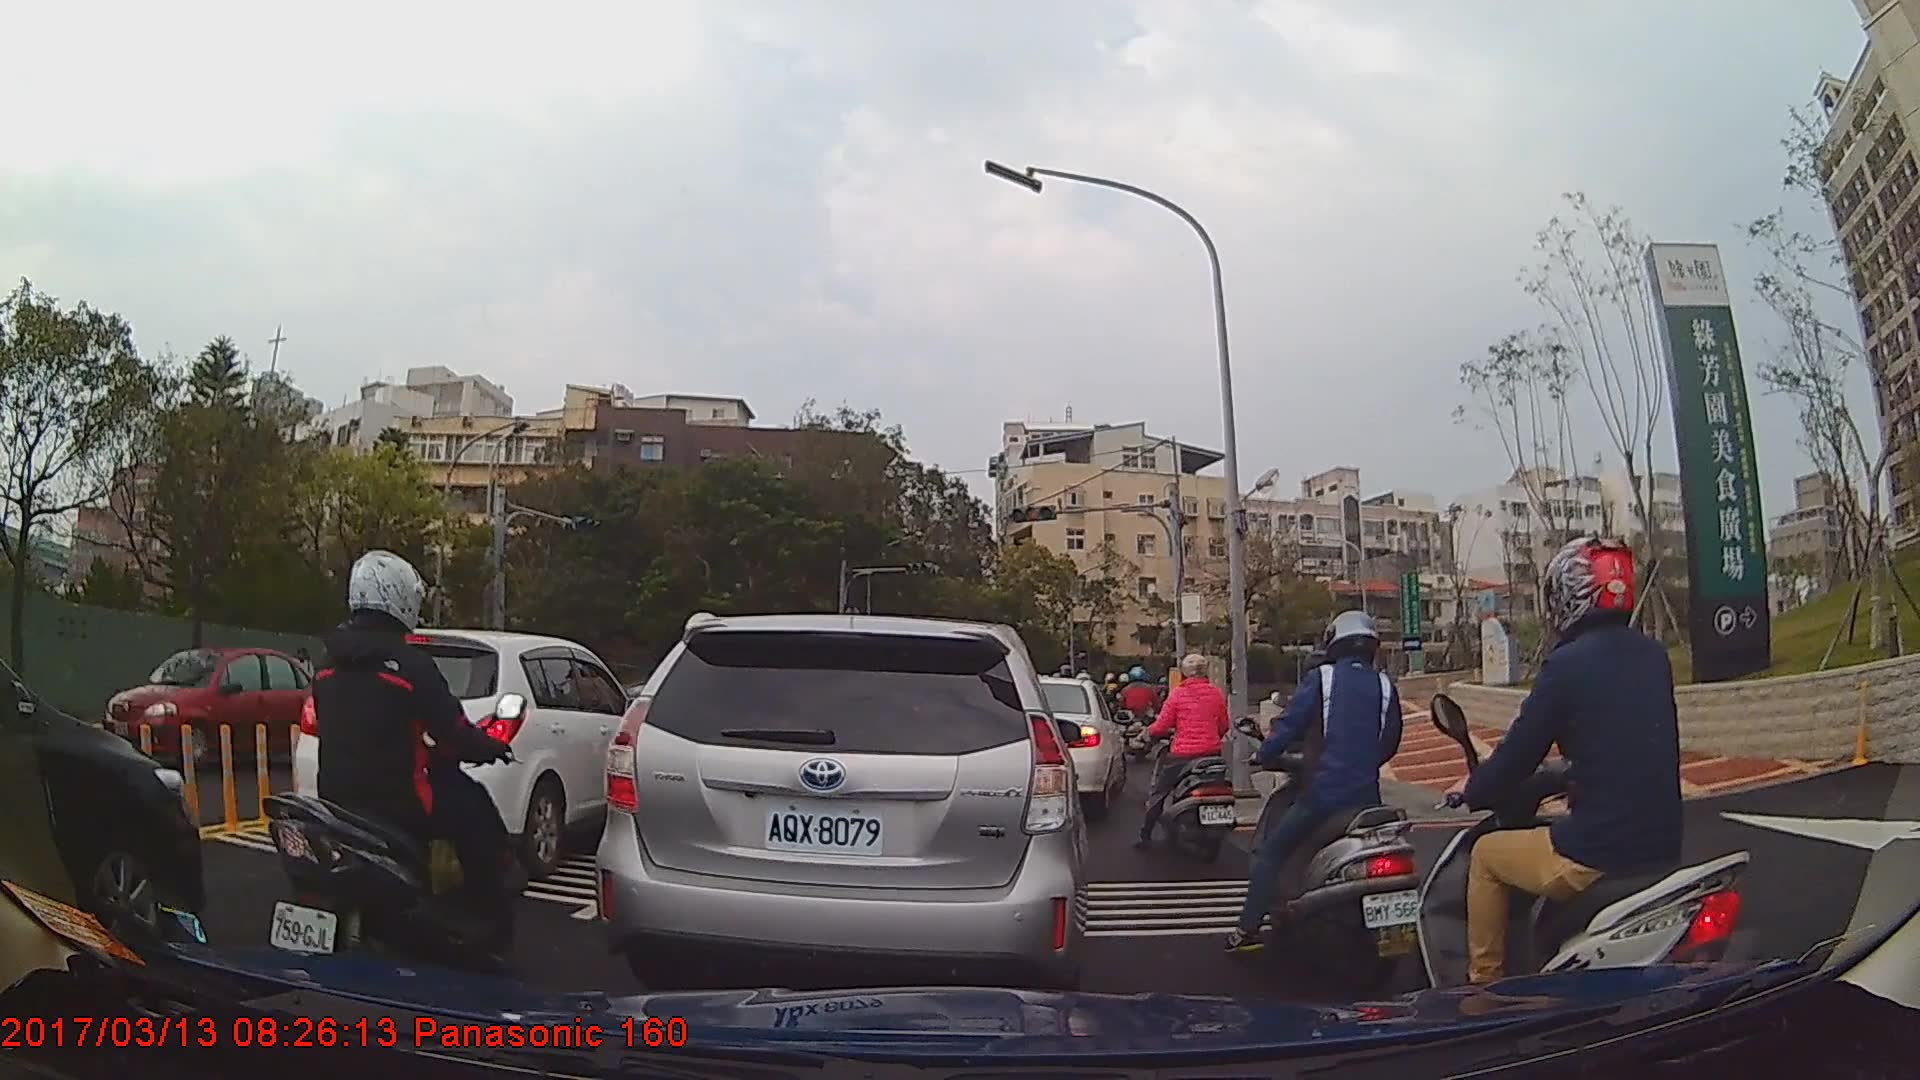pedestrian: (293, 650, 318, 726)
rider: (1420, 532, 1753, 1060), (258, 551, 532, 1005), (1241, 611, 1428, 999), (1140, 652, 1243, 867), (1117, 665, 1158, 764)
vehicle: (597, 612, 1092, 1024), (297, 627, 639, 879), (0, 655, 200, 957), (103, 646, 320, 768), (1016, 672, 1127, 812)
